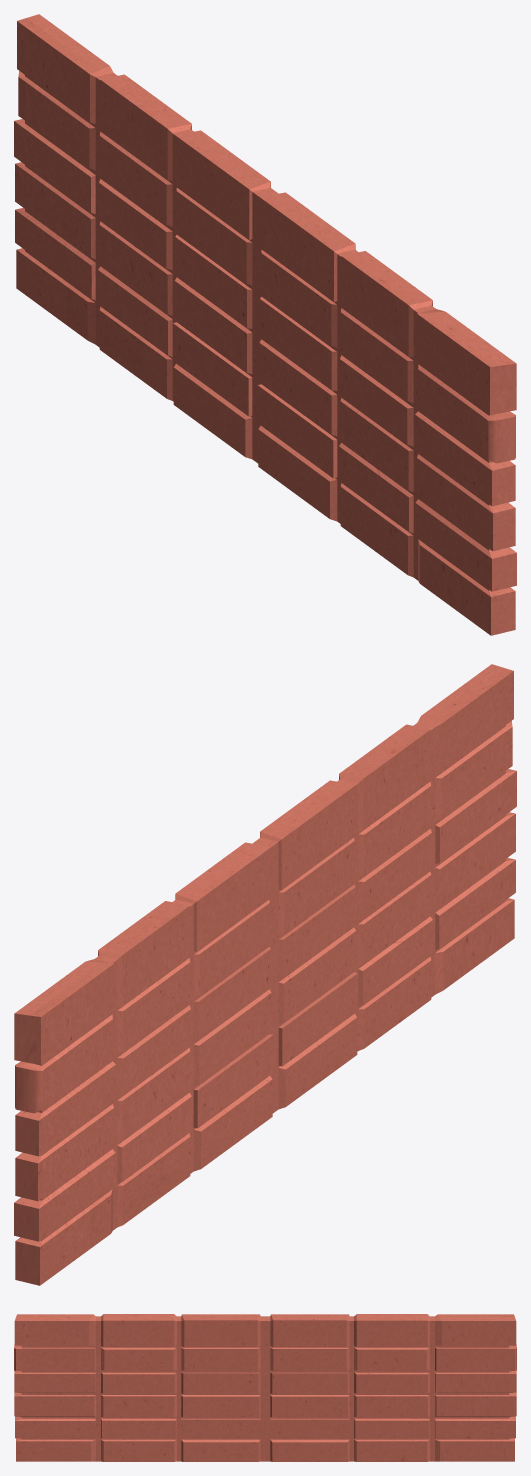
The model's file is wall fbx.fbx.
The picture shows the model from 3 angles, top to bottom: view 1: azimuth 30°, elevation 25°; view 2: azimuth 150°, elevation 25°; view 3: azimuth 270°, elevation 25°; orthographic projection. The views are drawn at different scales.
Visible parts, largest first — view 1: polySurface11; view 2: polySurface11; view 3: polySurface11.
Boxes of the visible parts, bbox=[...] form: polySurface11: bbox=[14, 14, 516, 635]; polySurface11: bbox=[14, 664, 516, 1285]; polySurface11: bbox=[14, 1314, 516, 1461].
Size of the model in its own units: 1.98 by 18.05 by 57.8.
Materials: 1 (1 with a texture image).
